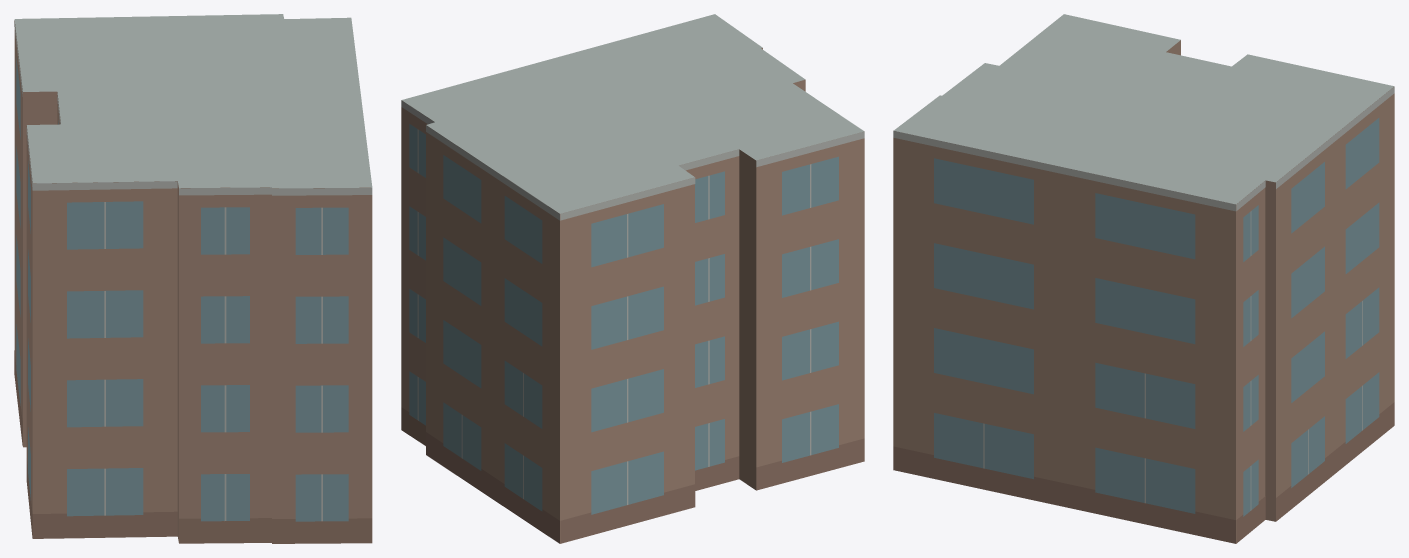
The model's file is survey-upis-32720175.glb.
3 renders of one model, left to right at view 1: azimuth 30°, elevation 25°; view 2: azimuth 150°, elevation 25°; view 3: azimuth 270°, elevation 25°, orthographic. The views are drawn at different scales.
Visible parts, largest first — view 1: survey-upis-32720175.tmp; view 2: survey-upis-32720175.tmp; view 3: survey-upis-32720175.tmp.
Part boxes in pixels (x1,y1,x2,y2): survey-upis-32720175.tmp: (14, 14, 372, 543); survey-upis-32720175.tmp: (401, 14, 864, 543); survey-upis-32720175.tmp: (893, 14, 1394, 543).
Bounding box in the file's own units: 14.27 × 11.85 × 15.87.
